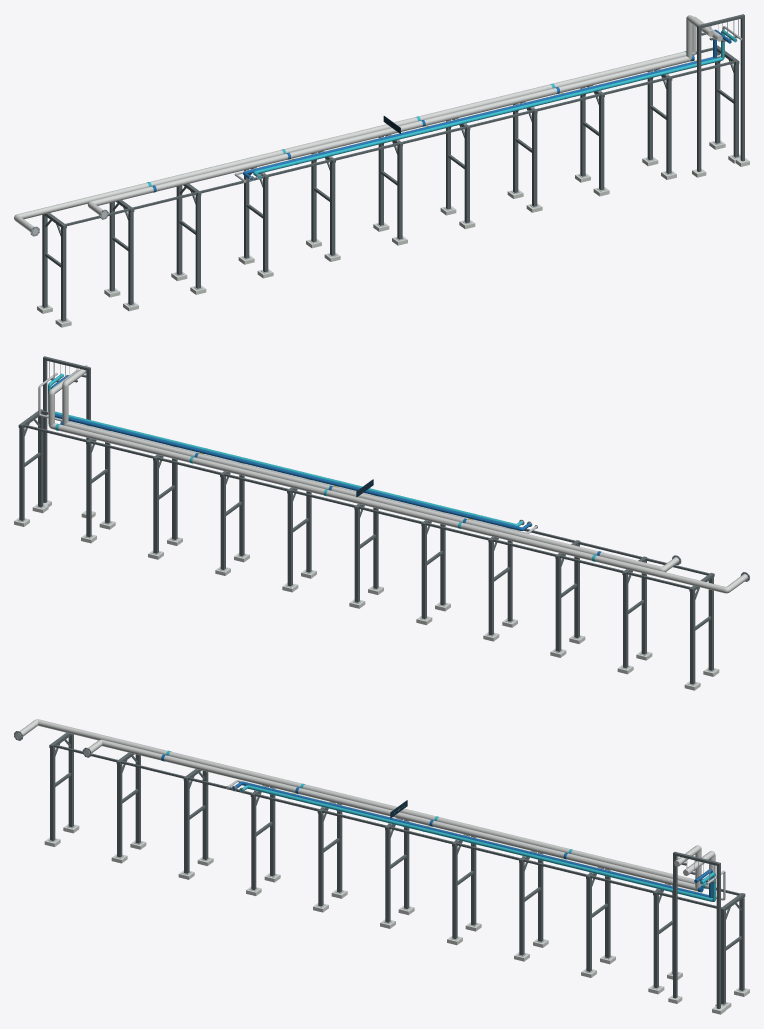
File: fab1-site-utility-bridge.glb
3 renders of one model, top to bottom at view 1: azimuth 30°, elevation 25°; view 2: azimuth 150°, elevation 25°; view 3: azimuth 330°, elevation 25°, orthographic.
Parts seen in each view (by area): view 1: PB_Bents, PB_CHWS, PB_CHWR, PB_PCWR, PB_EntrySupport, PB_PCWS, PB_CDA; view 2: PB_Bents, PB_CHWR, PB_CHWS, PB_PCWS, PB_PCWR, PB_EntrySupport, PB_CDA; view 3: PB_Bents, PB_CHWS, PB_CHWR, PB_PCWR, PB_EntrySupport, PB_PCWS, PB_CDA.
Boxes of the visible parts, bbox=[...] form: PB_Bents: bbox=[37, 45, 740, 327]; PB_CHWS: bbox=[87, 15, 713, 217]; PB_CHWR: bbox=[14, 16, 722, 234]; PB_PCWR: bbox=[253, 30, 737, 178]; PB_EntrySupport: bbox=[692, 14, 749, 177]; PB_PCWS: bbox=[243, 29, 731, 180]; PB_CDA: bbox=[234, 26, 742, 182]; PB_Bents: bbox=[14, 409, 719, 690]; PB_CHWR: bbox=[48, 370, 747, 593]; PB_CHWS: bbox=[62, 365, 678, 572]; PB_PCWS: bbox=[51, 375, 530, 530]; PB_PCWR: bbox=[48, 373, 522, 526]; PB_EntrySupport: bbox=[43, 356, 95, 517]; PB_CDA: bbox=[38, 372, 536, 533]; PB_Bents: bbox=[44, 732, 749, 1009]; PB_CHWS: bbox=[84, 739, 701, 891]; PB_CHWR: bbox=[15, 719, 715, 889]; PB_PCWR: bbox=[240, 785, 715, 901]; PB_EntrySupport: bbox=[668, 851, 725, 1014]; PB_PCWS: bbox=[232, 781, 712, 897]; PB_CDA: bbox=[226, 780, 725, 900].
Size of the model in its own units: 63.7 by 12.7 by 5.01.
1 material, 1 textured.
